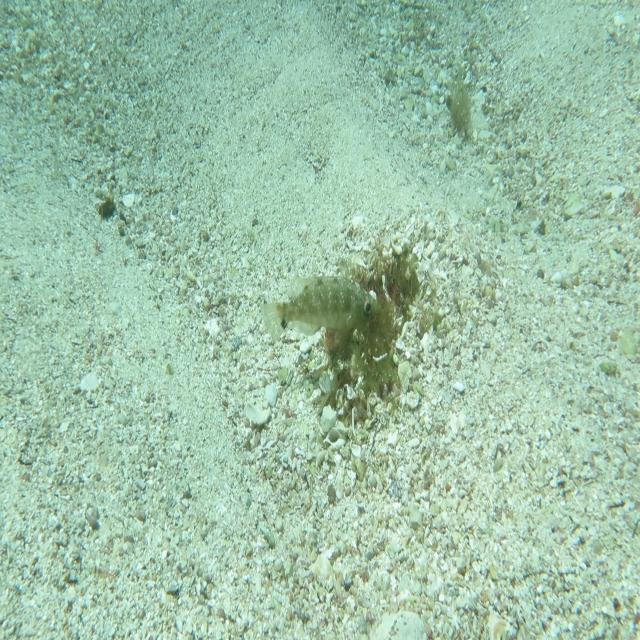MAN: (260, 270, 384, 347)
nest: (308, 225, 428, 416)
vegetation: (448, 77, 474, 136), (98, 197, 118, 220)
